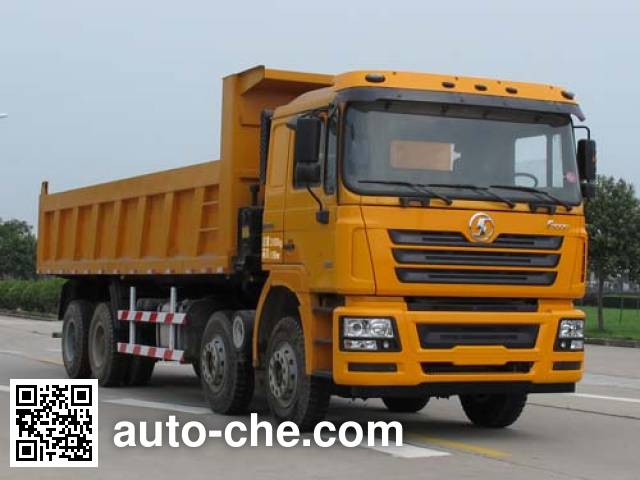truck: (53, 60, 587, 432)
